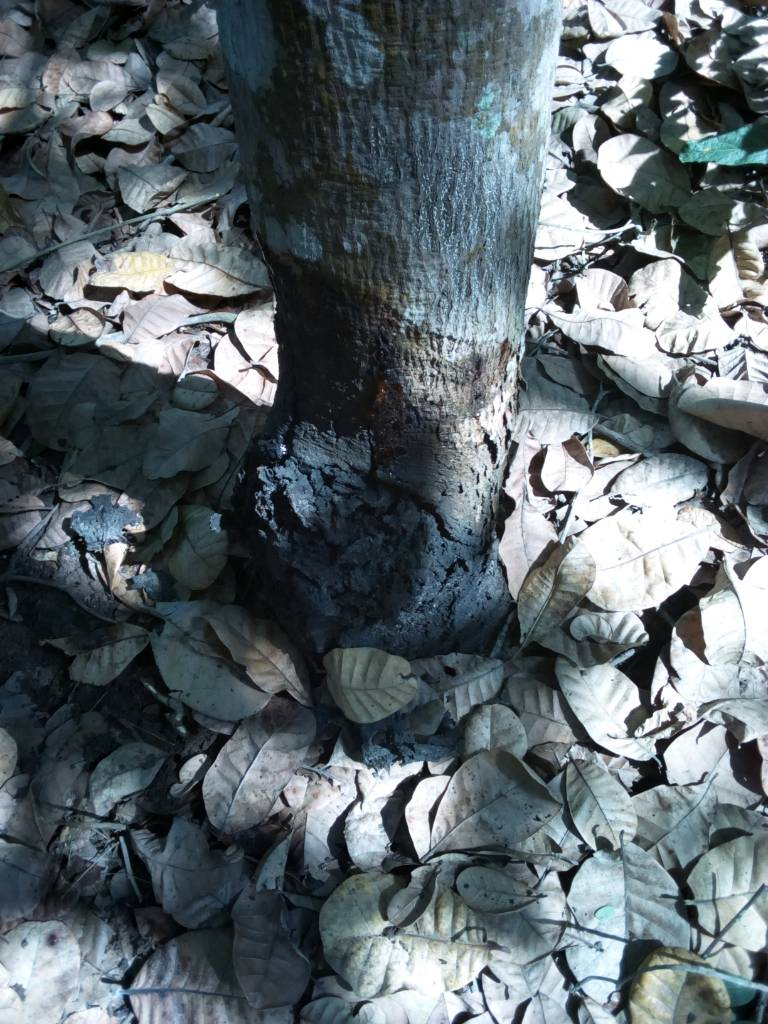Termites: (229, 344, 488, 638)
